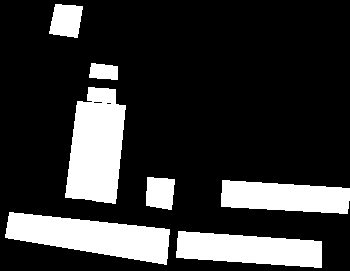parkingspot: (5, 212, 169, 264), (176, 231, 321, 267), (221, 180, 350, 213), (65, 101, 99, 199), (92, 103, 125, 203), (49, 4, 82, 37), (146, 177, 174, 209), (89, 63, 117, 79), (87, 87, 115, 103)
